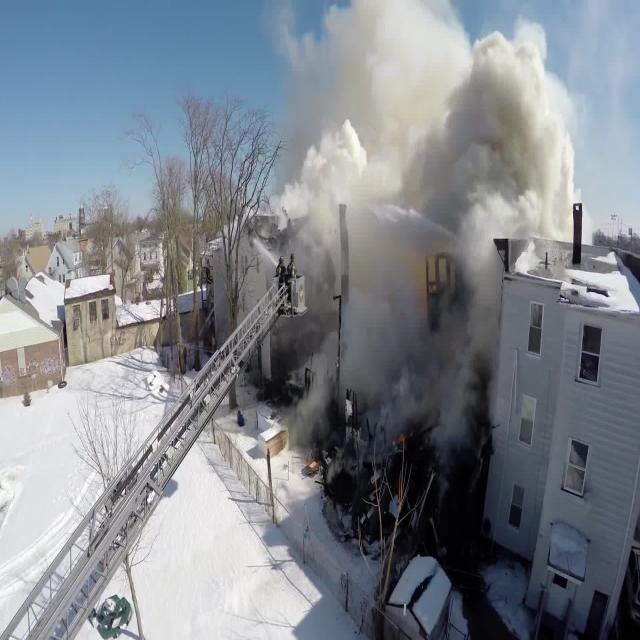Smoke: (297, 2, 582, 232), (312, 204, 498, 413)
